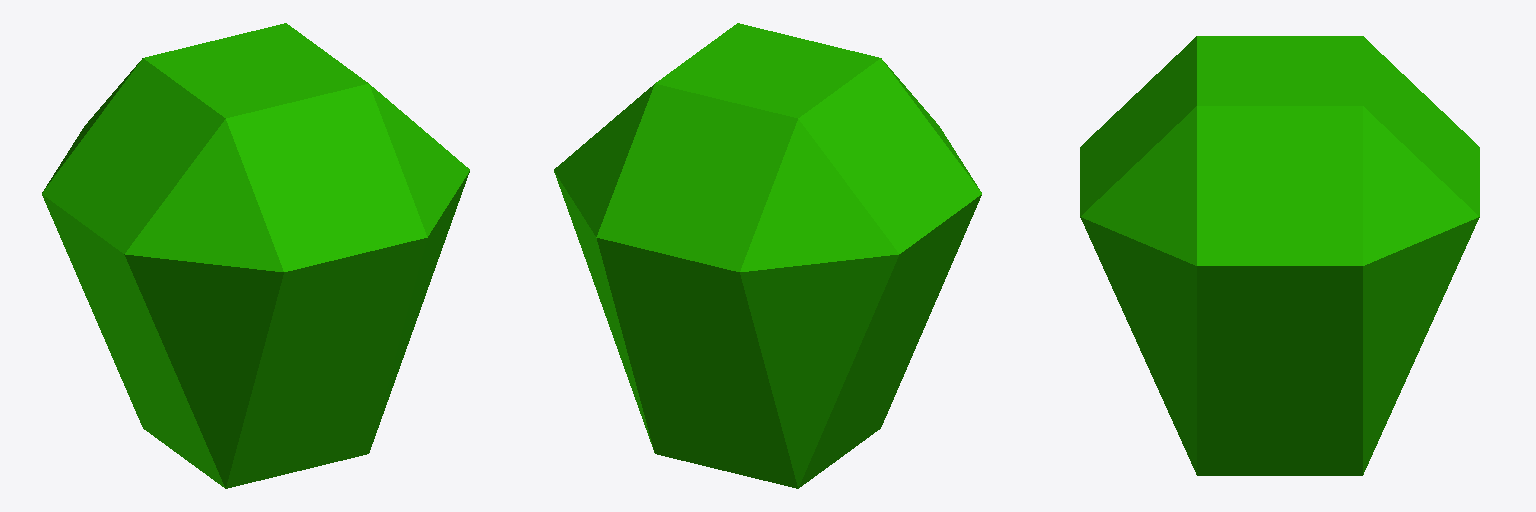
Rendered from gems_emerald_original.obj.
3 renders of one model, left to right at view 1: azimuth 30°, elevation 25°; view 2: azimuth 150°, elevation 25°; view 3: azimuth 270°, elevation 25°, orthographic.
Visible parts, largest first — view 1: mergedBlocks; view 2: mergedBlocks; view 3: mergedBlocks.
Boxes of the visible parts, x1=… form: mergedBlocks: x1=42, y1=23, x2=469, y2=488; mergedBlocks: x1=554, y1=23, x2=981, y2=488; mergedBlocks: x1=1080, y1=36, x2=1479, y2=475.
Bounding box in the file's own units: 0.9778 × 1 × 0.9778.